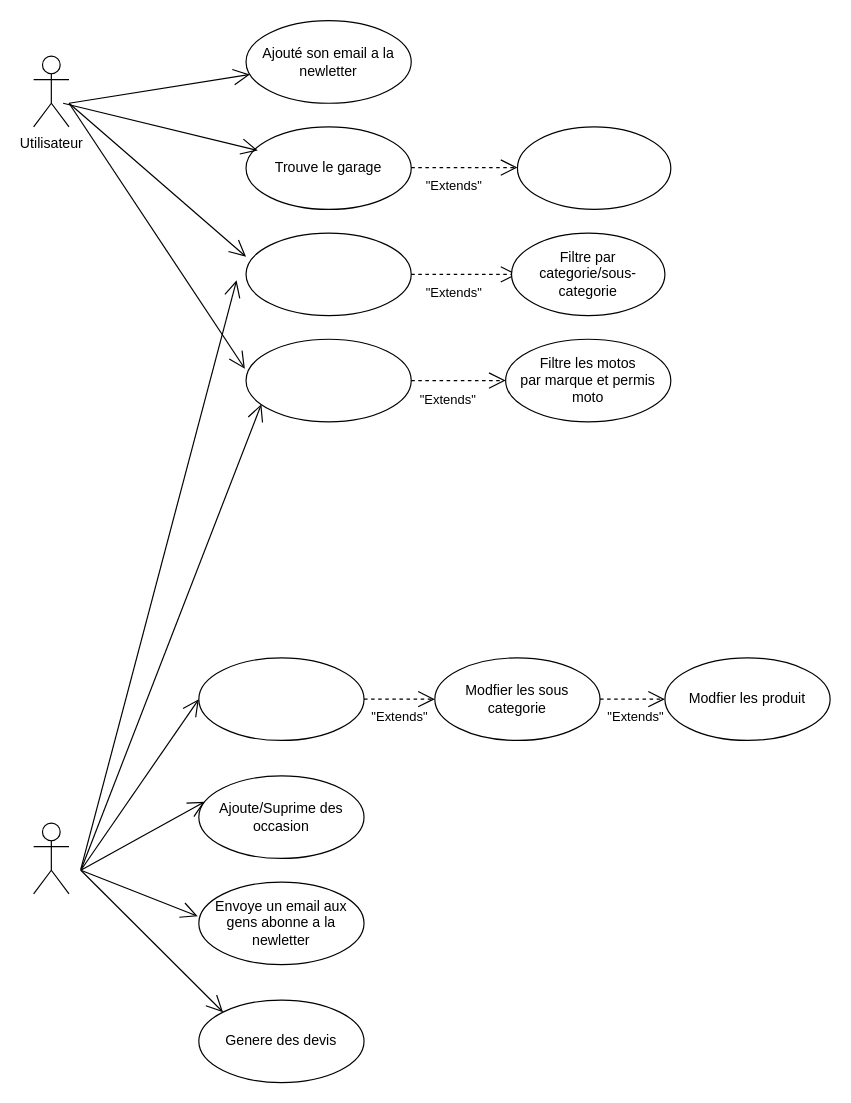
The diagram is 851 pixels wide and 1103 high, and some of its shapes have lost their labels. Here are the shapes that lost their labels. From the top down, the centre of each, then its label:
At (x=593, y=167): "Contacte le garage".
At (x=328, y=274): "Consulte le catalogue".
At (x=328, y=380): "Consulte les ocassion".
At (x=281, y=698): "Modfier les categorie".
At (x=50, y=858): "Admin".
